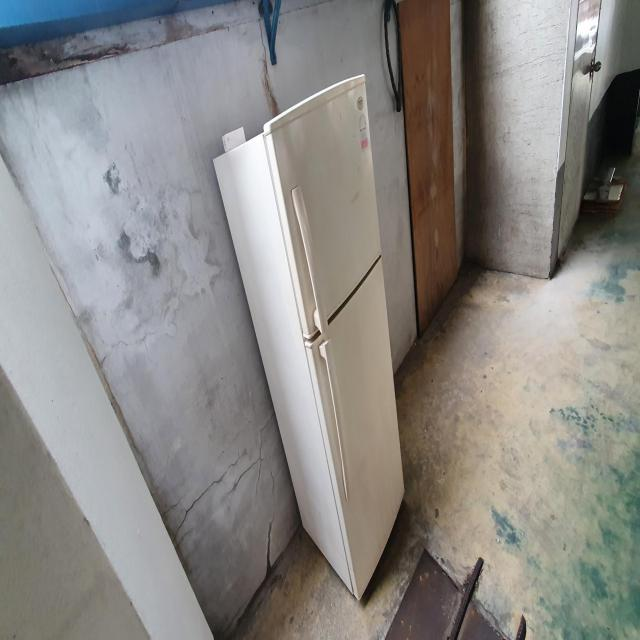refrigerator: (210, 73, 408, 605)
